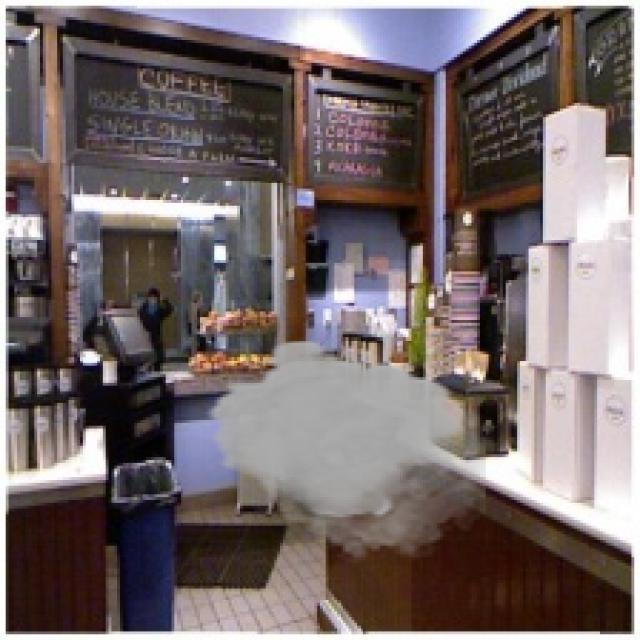Smoke: (203, 337, 486, 566)
